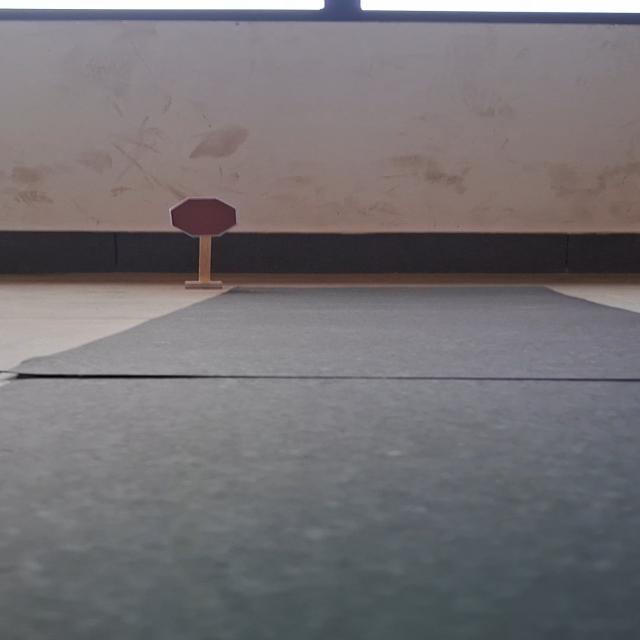Stop: (169, 196, 239, 238)
